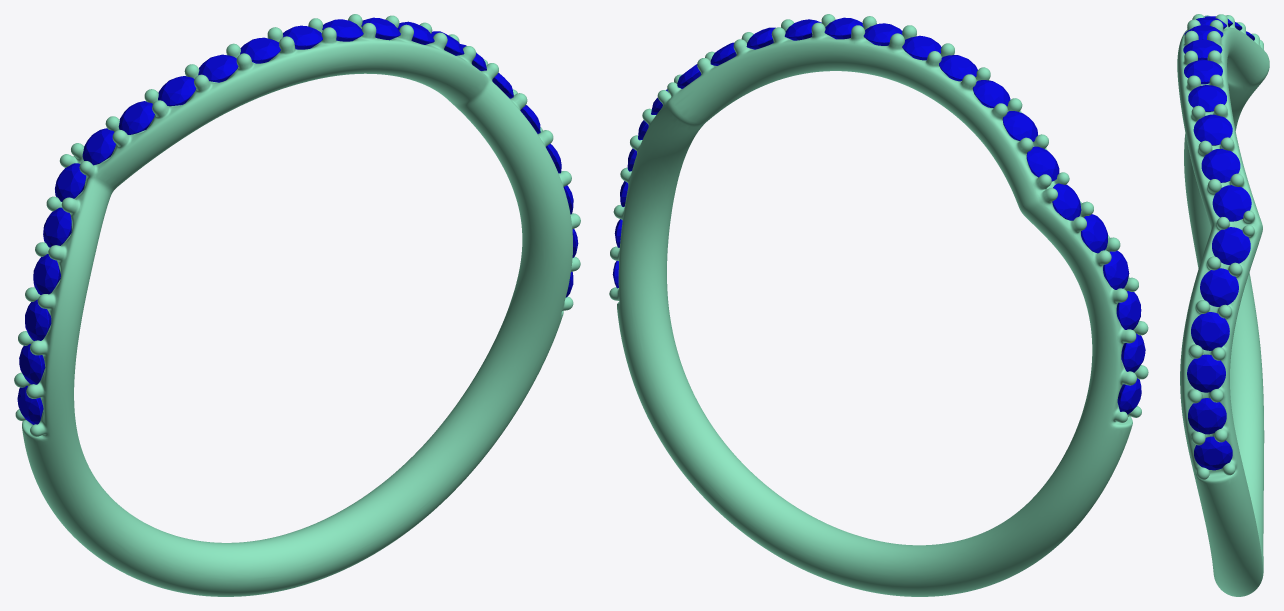
The picture shows the model from 3 angles, left to right: view 1: azimuth 30°, elevation 25°; view 2: azimuth 150°, elevation 25°; view 3: azimuth 270°, elevation 25°; orthographic projection. The views are drawn at different scales.
Parts seen in each view (by area): view 1: Metal03, Diamond_Band.013, Diamond_Band.016, Diamond_Band.014, Diamond_Band.012, Diamond_Band.017, Diamond_Band.015, Diamond_Band.011, Diamond_Band.018, Diamond_Band.010, Diamond_Band.019; view 2: Metal03, Diamond_Band.014, Diamond_Band.015, Diamond_Band.013, Diamond_Band.016, Diamond_Band.012, Diamond_Band.017, Diamond_Band.011, Diamond_Band.018; view 3: Metal03, Diamond_Band.005, Diamond_Band.006, Diamond_Band.004, Diamond_Band.007, Diamond_Band.003, Diamond_Band.008, Diamond_Band.002, Diamond_Band.009, Diamond_Band.001, Diamond_Band.021, Diamond_Band (+3 smaller).
Part boxes in pixels (x1=…): Metal03: x1=14, y1=14, x2=580, y2=596; Diamond_Band.013: x1=118, y1=101, x2=154, y2=134; Diamond_Band.016: x1=43, y1=207, x2=71, y2=247; Diamond_Band.014: x1=82, y1=128, x2=115, y2=165; Diamond_Band.012: x1=158, y1=76, x2=196, y2=106; Diamond_Band.017: x1=33, y1=254, x2=60, y2=294; Diamond_Band.015: x1=55, y1=163, x2=86, y2=201; Diamond_Band.011: x1=198, y1=54, x2=238, y2=82; Diamond_Band.018: x1=25, y1=299, x2=51, y2=340; Diamond_Band.010: x1=240, y1=37, x2=280, y2=63; Diamond_Band.019: x1=19, y1=344, x2=45, y2=384; Metal03: x1=609, y1=14, x2=1148, y2=596; Diamond_Band.014: x1=1026, y1=146, x2=1059, y2=181; Diamond_Band.015: x1=1052, y1=183, x2=1081, y2=220; Diamond_Band.013: x1=1002, y1=111, x2=1037, y2=141; Diamond_Band.016: x1=1081, y1=214, x2=1107, y2=253; Diamond_Band.012: x1=973, y1=80, x2=1010, y2=108; Diamond_Band.017: x1=1103, y1=250, x2=1129, y2=289; Diamond_Band.011: x1=939, y1=55, x2=977, y2=81; Diamond_Band.018: x1=1116, y1=291, x2=1141, y2=329; Metal03: x1=1177, y1=14, x2=1269, y2=596; Diamond_Band.005: x1=1200, y1=268, x2=1238, y2=306; Diamond_Band.006: x1=1191, y1=312, x2=1229, y2=350; Diamond_Band.004: x1=1212, y1=227, x2=1250, y2=264; Diamond_Band.007: x1=1187, y1=354, x2=1225, y2=392; Diamond_Band.003: x1=1212, y1=185, x2=1251, y2=221; Diamond_Band.008: x1=1188, y1=398, x2=1226, y2=434; Diamond_Band.002: x1=1201, y1=148, x2=1240, y2=182; Diamond_Band.009: x1=1194, y1=436, x2=1232, y2=470; Diamond_Band.001: x1=1193, y1=114, x2=1232, y2=145; Diamond_Band.021: x1=1188, y1=85, x2=1226, y2=111; Diamond_Band: x1=1184, y1=59, x2=1222, y2=84.
Size of the model in its own units: 21.08 by 21 by 3.33.
